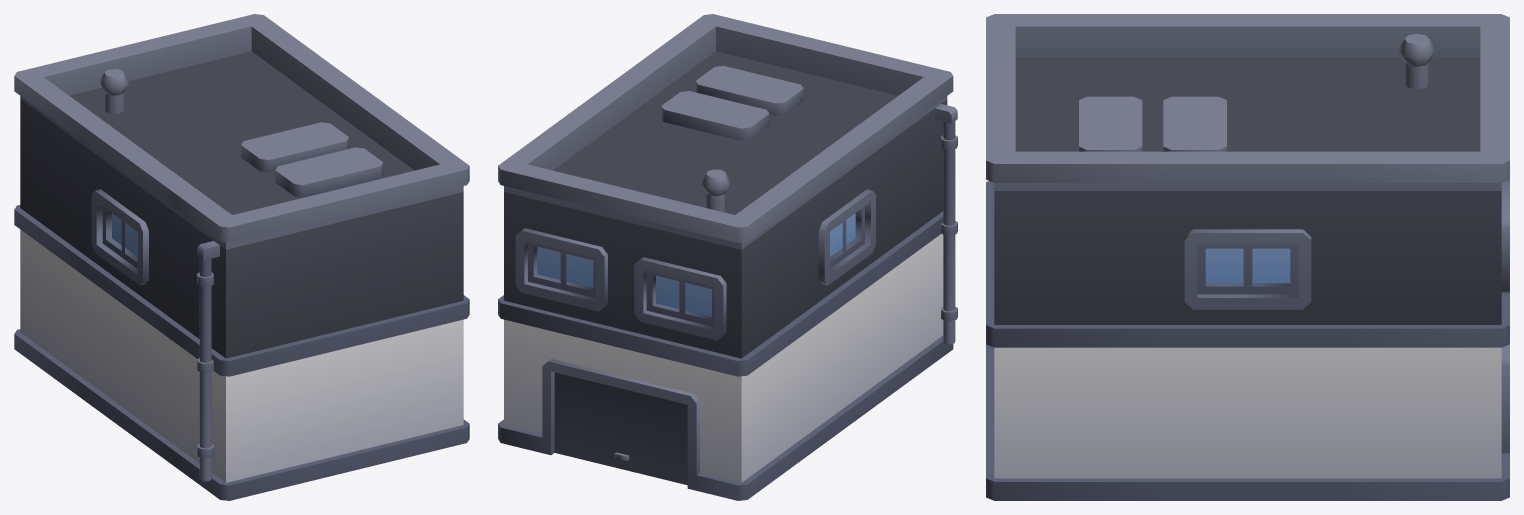
File: building-o.fbx
3 renders of one model, left to right at view 1: azimuth 30°, elevation 25°; view 2: azimuth 150°, elevation 25°; view 3: azimuth 270°, elevation 25°, orthographic. The views are drawn at different scales.
Visible parts, largest first — view 1: building-o; view 2: building-o; view 3: building-o.
Boxes of the visible parts, x1,y1,x2,y2 form: building-o: [14, 14, 469, 500]; building-o: [498, 14, 957, 500]; building-o: [986, 14, 1509, 500].
Size of the model in its own units: 88.36 by 91.8 by 124.
Materials: 1 (1 with a texture image).
